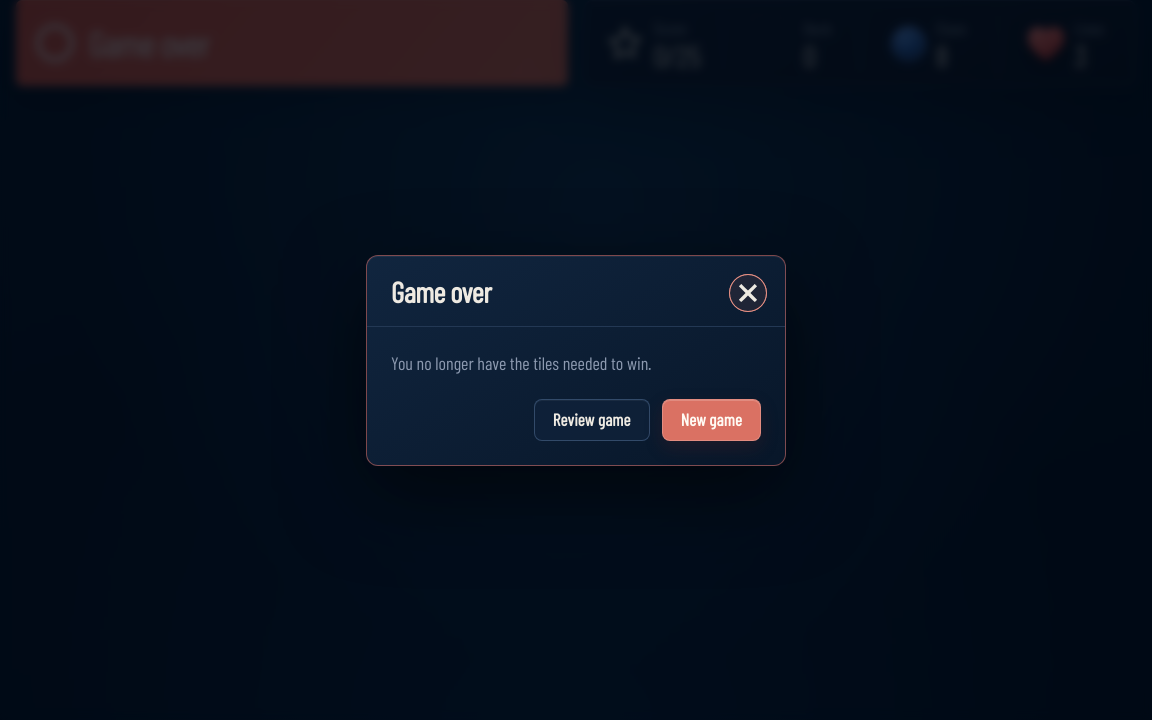
Test case: Hanabi end-of-game results › lets a seated player start a new game from the results
Click the button "New game" at (711, 420), box top-left (662, 398), bottom-right (761, 440)
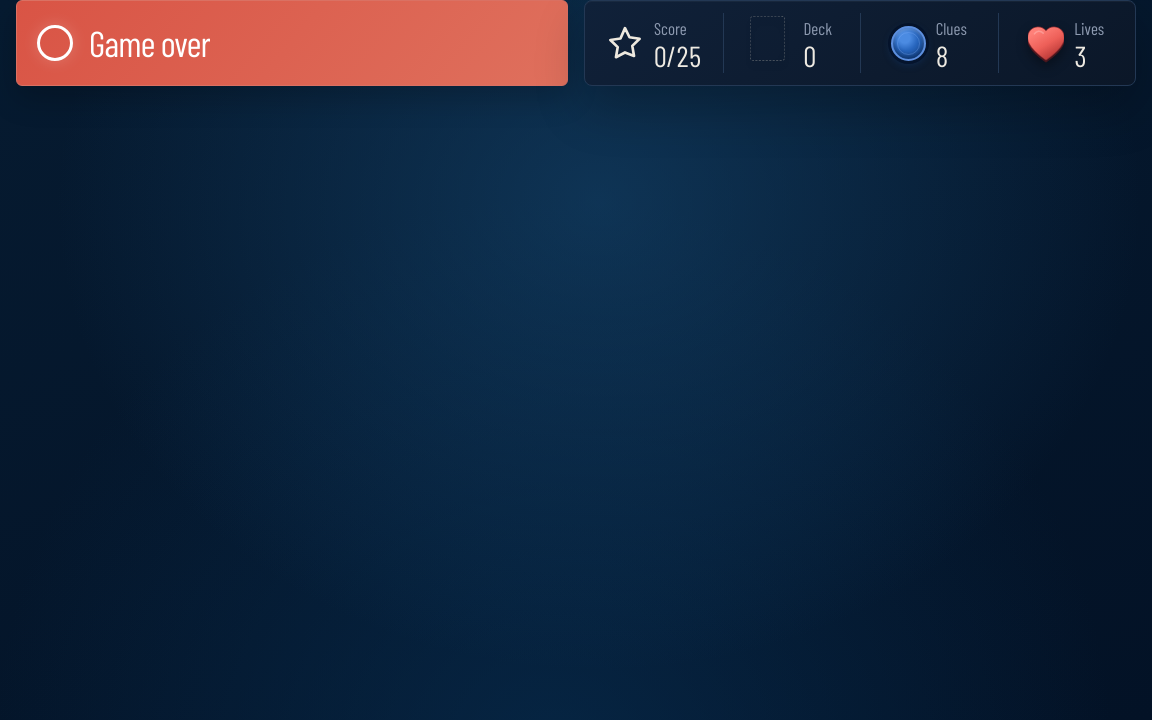
expect the button is gone: met
